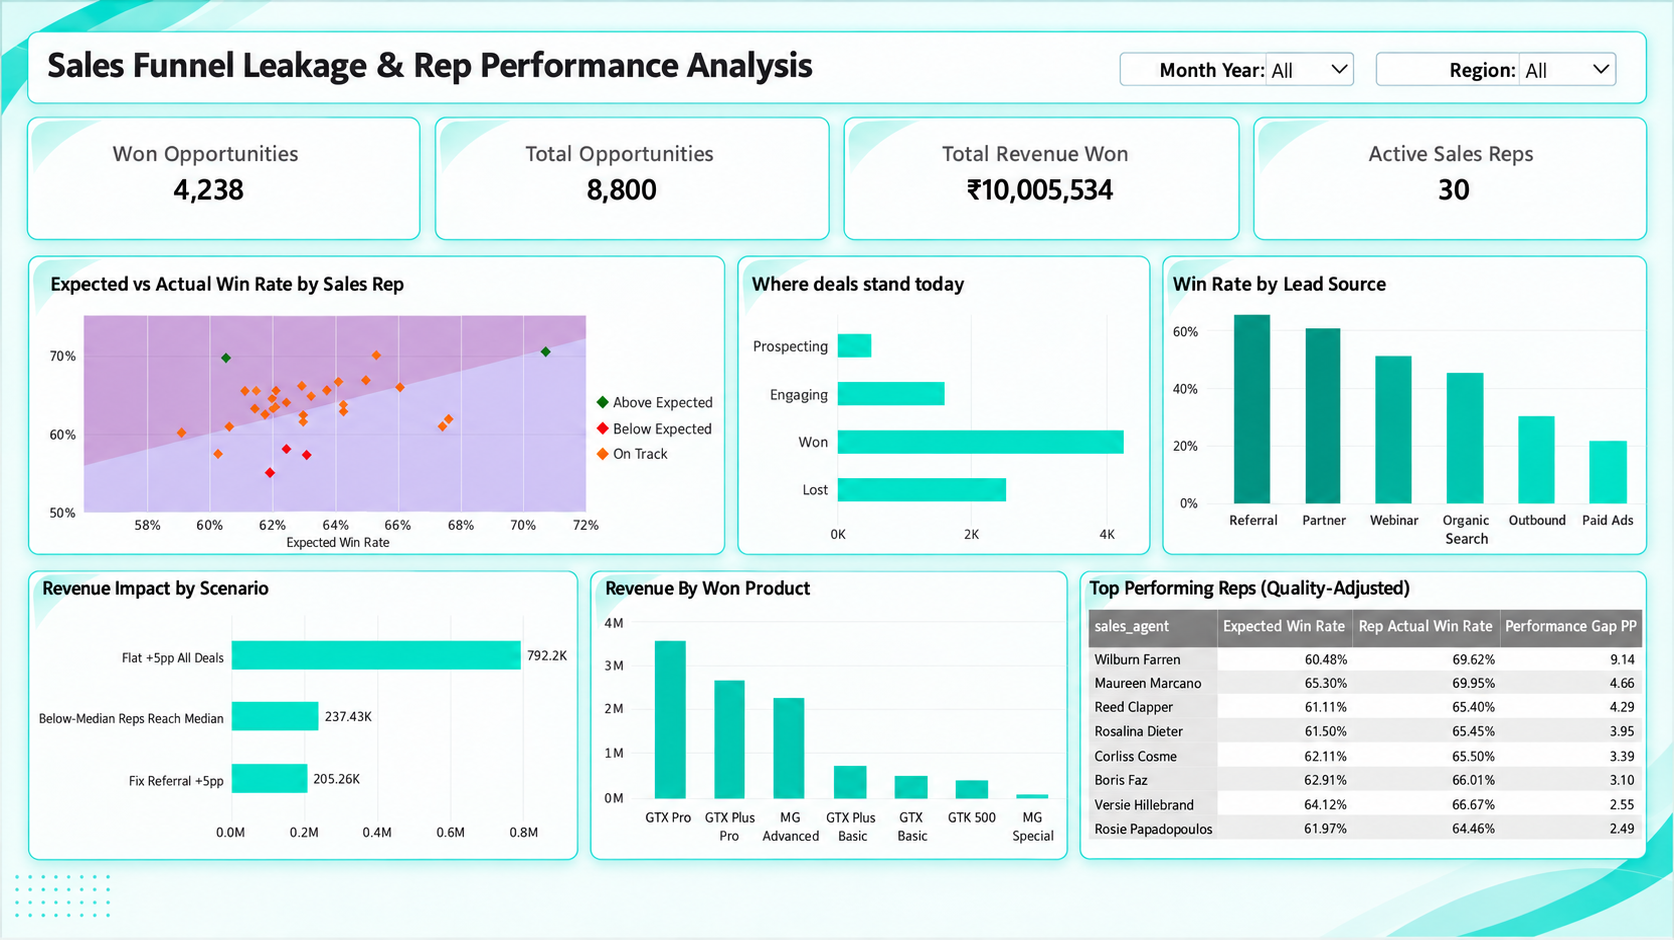

Layout of this report page (visuals, bound fields, positions):
{"tool":"powerbi","page":{"name":"Page 1","canvas":[1920,1080],"ordinal":0},"visuals":[{"type":"cardVisual","fields":{"Data":["measure.Won Opportunities","measure.Total Opportunities","measure.Total Revenue Won","measure.Active Sales Reps"]},"box":[0,148.1,1903.4,112.2],"z":0},{"type":"barChart","title":"Where deals stand today","fields":{"Category":["DealStages.Deal Stage"],"Y":["CountNonNull(SalesPipeline.opportunity_id)"]},"box":[848,299.3,523.8,349.2],"z":1000},{"type":"columnChart","title":"Win Rate by Lead Source","fields":{"Category":["LeadSources.lead_source"],"Y":["measure.Lead Source Win Rate"]},"box":[1331.3,299.3,587.7,349.2],"z":2000},{"type":"clusteredBarChart","title":"Revenue Impact by Scenario","fields":{"Category":["Scenario.Scenario"],"Y":["measure.Scenario Revenue Impact"]},"box":[31.2,648.5,648.5,344.5],"z":3000},{"type":"tableEx","title":"Top Performing Reps (Quality-Adjusted)","fields":{"Values":["SalesPipeline.sales_agent","measure.Expected Win Rate %","measure.Rep Actual Win Rate","measure.Performance Gap PP"]},"box":[1236.9,649,667,345.2],"z":4000},{"type":"scatterChart","title":"Expected vs Actual Win Rate by Sales Rep","fields":{"Category":["SalesTeams.sales_agent"],"Series":["Performance Status.Status"],"X":["measure.Expected Win Rate %"],"Y":["measure.Actual Win Rate by Status"]},"box":[42.1,299.3,806,349.2],"z":5000},{"type":"clusteredColumnChart","title":"Revenue By Won Product","fields":{"Category":["Products.product"],"Y":["measure.Revenue Won by Product"]},"box":[679.7,648.5,572.1,344.5],"z":6000},{"type":"slicer","fields":{"Values":["DateTable.Month Year"]},"box":[1449.8,56.1,112.2,67],"z":7000},{"type":"slicer","fields":{"Values":["SalesTeams.regional_office"]},"box":[1742.8,57.7,118.5,57.7],"z":8000},{"type":"textbox","box":[0,48.3,983.7,67],"z":9000},{"type":"textbox","box":[966.5,59.2,194.9,54.6],"z":10000},{"type":"textbox","box":[1452.9,9.4,168.4,49.9],"z":11000},{"type":"textbox","box":[1267.4,65.5,185.5,56.1],"z":12000},{"type":"textbox","box":[1572.3,66.1,168.5,49.1],"z":13000}]}

Visuals, with their boxes in screenshot pixels (x1, y1, x2, y2), scaled from the page's 1920x1080 canvas onto the 1674x940 screenshot:
cardVisual - measure.Won Opportunities x measure.Total Opportunities: bbox=(0, 129, 1660, 227)
"Where deals stand today" barChart: bbox=(739, 261, 1196, 564)
"Win Rate by Lead Source" columnChart: bbox=(1161, 261, 1673, 564)
"Revenue Impact by Scenario" clusteredBarChart: bbox=(27, 564, 593, 864)
"Top Performing Reps (Quality-Adjusted)" tableEx: bbox=(1078, 565, 1660, 865)
"Expected vs Actual Win Rate by Sales Rep" scatterChart: bbox=(37, 261, 739, 564)
"Revenue By Won Product" clusteredColumnChart: bbox=(593, 564, 1091, 864)
slicer - DateTable.Month Year: bbox=(1264, 49, 1362, 107)
slicer - SalesTeams.regional_office: bbox=(1520, 50, 1623, 100)
textbox: bbox=(0, 42, 858, 100)
textbox: bbox=(843, 52, 1013, 99)
textbox: bbox=(1267, 8, 1414, 52)
textbox: bbox=(1105, 57, 1267, 106)
textbox: bbox=(1371, 58, 1518, 100)
